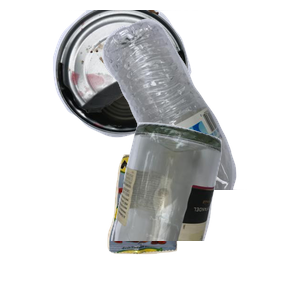glass: (109, 120, 300, 300)
metal: (50, 10, 262, 140)
plastic: (100, 16, 300, 196)
trash: (105, 152, 280, 300)
